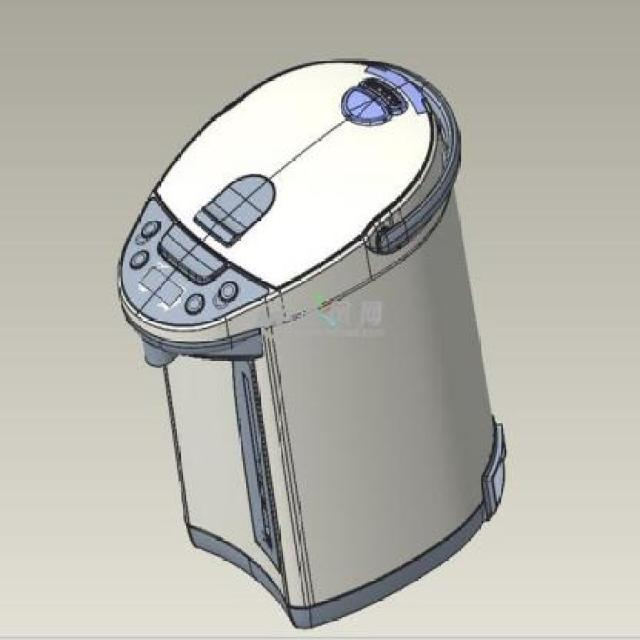cooler: (112, 54, 512, 631)
